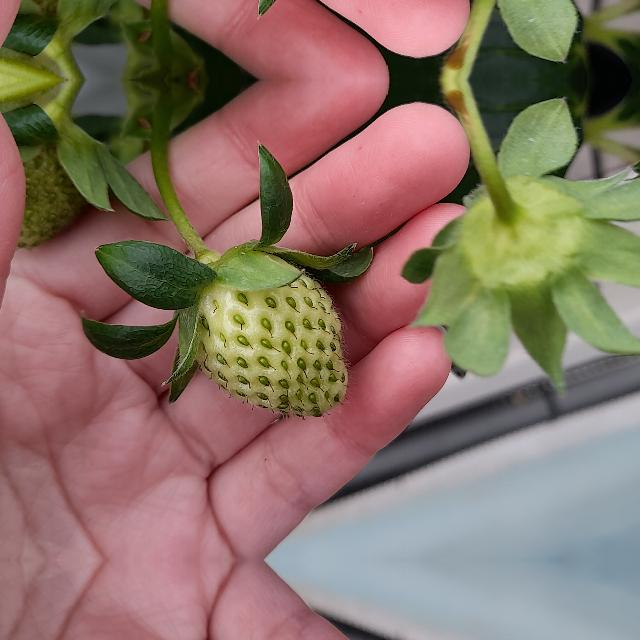Health_25: (196, 274, 348, 416)
